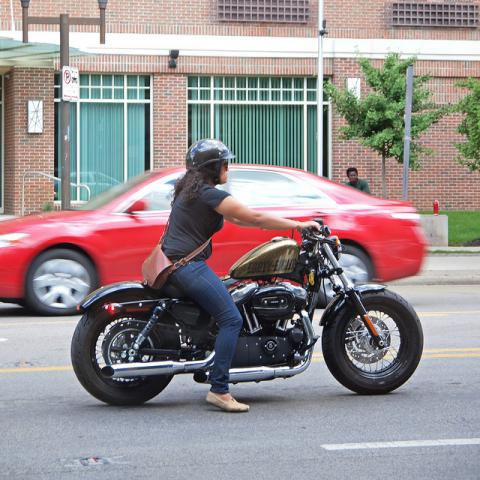car: (0, 162, 429, 315)
motorcycle: (60, 217, 423, 408)
